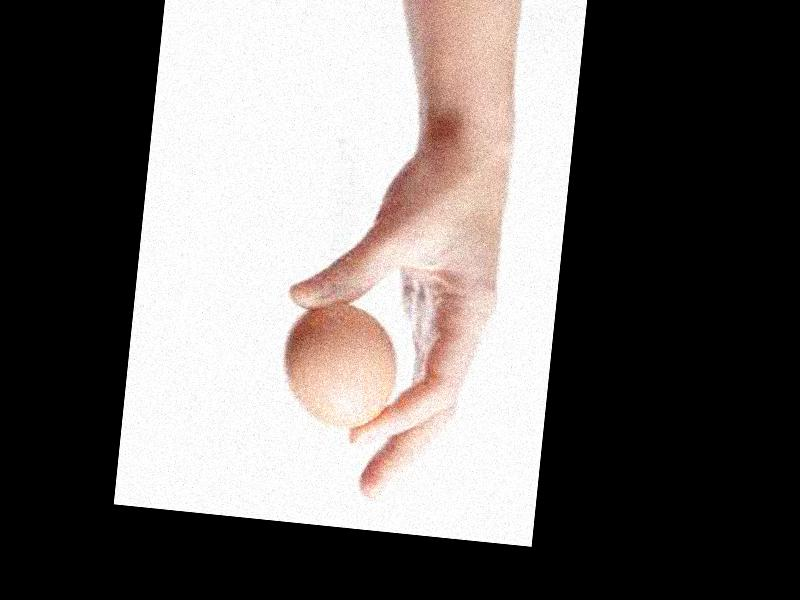Eggs: (278, 296, 400, 431)
